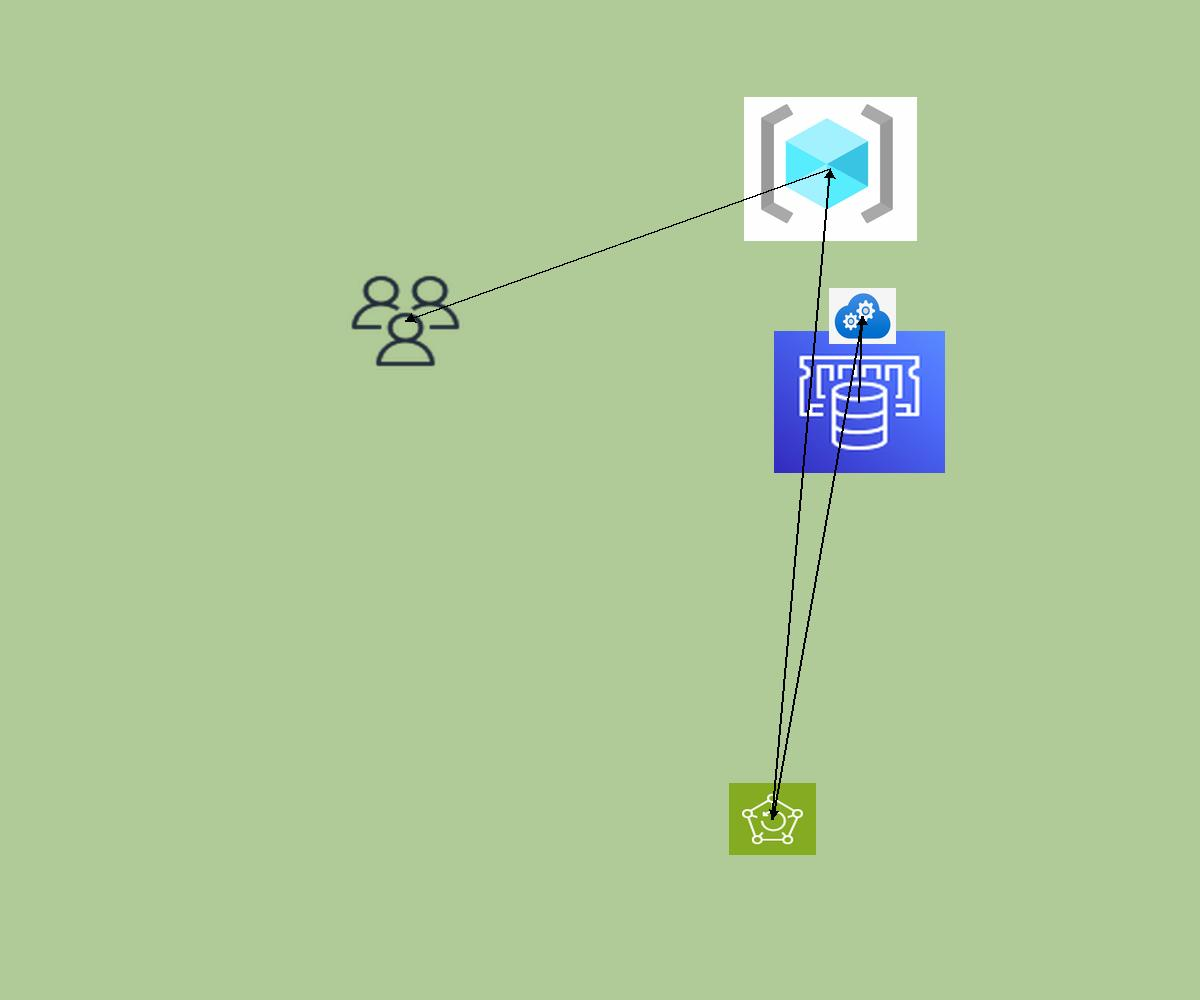AWS-Backup: (729, 783, 816, 855)
AWS-ElastiCache: (774, 331, 945, 473)
AWS-Res_Users: (347, 272, 464, 370)
Azure_cloud_services: (829, 288, 896, 344)
Azure_resource_group: (744, 97, 917, 241)
